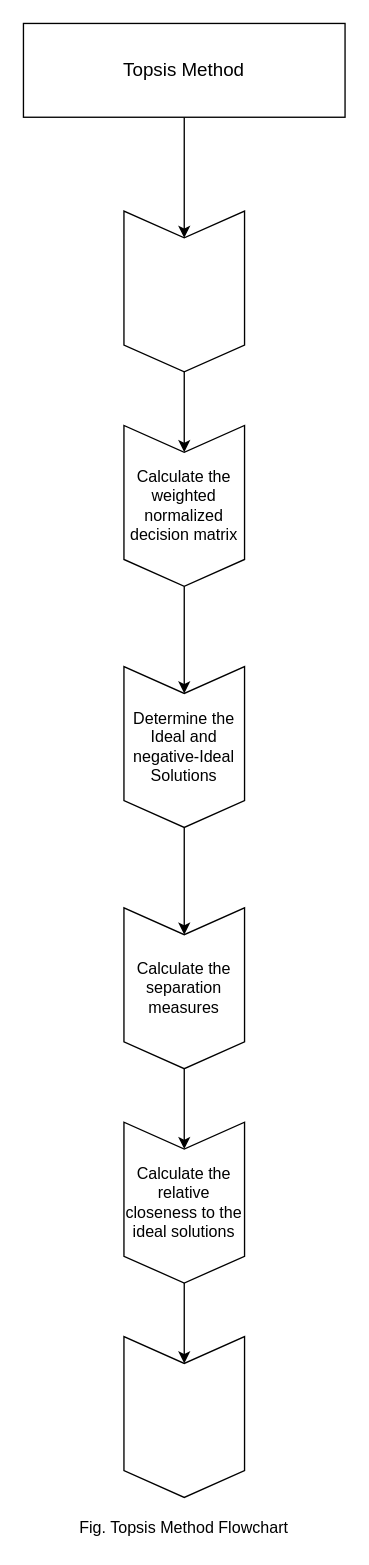
The diagram is 369 pixels wide and 1565 high, and some of its shapes have lost their labels. The shapes that lost their labels are listed below. From the top down, each one's centre as x and y in pixels, then its label:
At [184,291]: "Calculate the normalized decision matrix".
At [184,1416]: "Rank the preference order".
